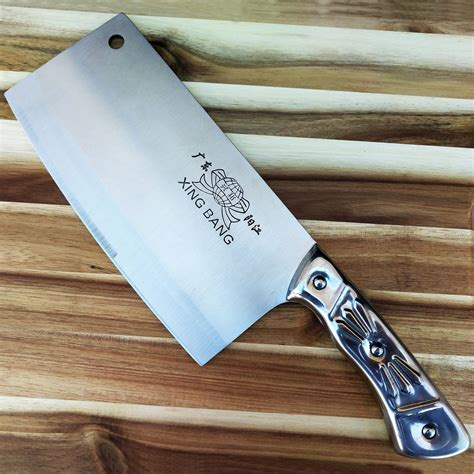knife: (4, 8, 470, 459)
